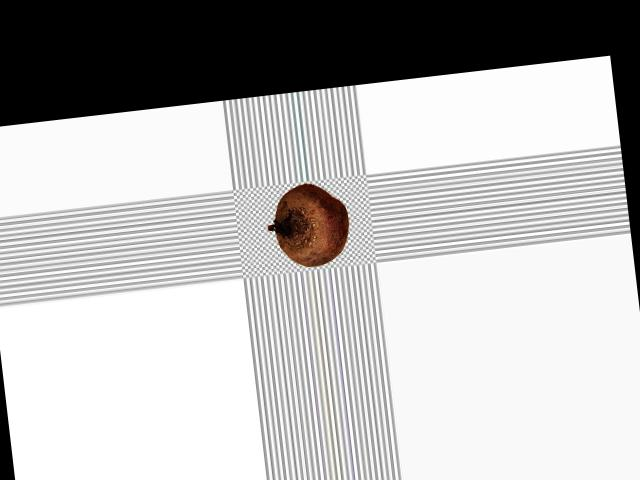beet: (262, 179, 352, 270)
